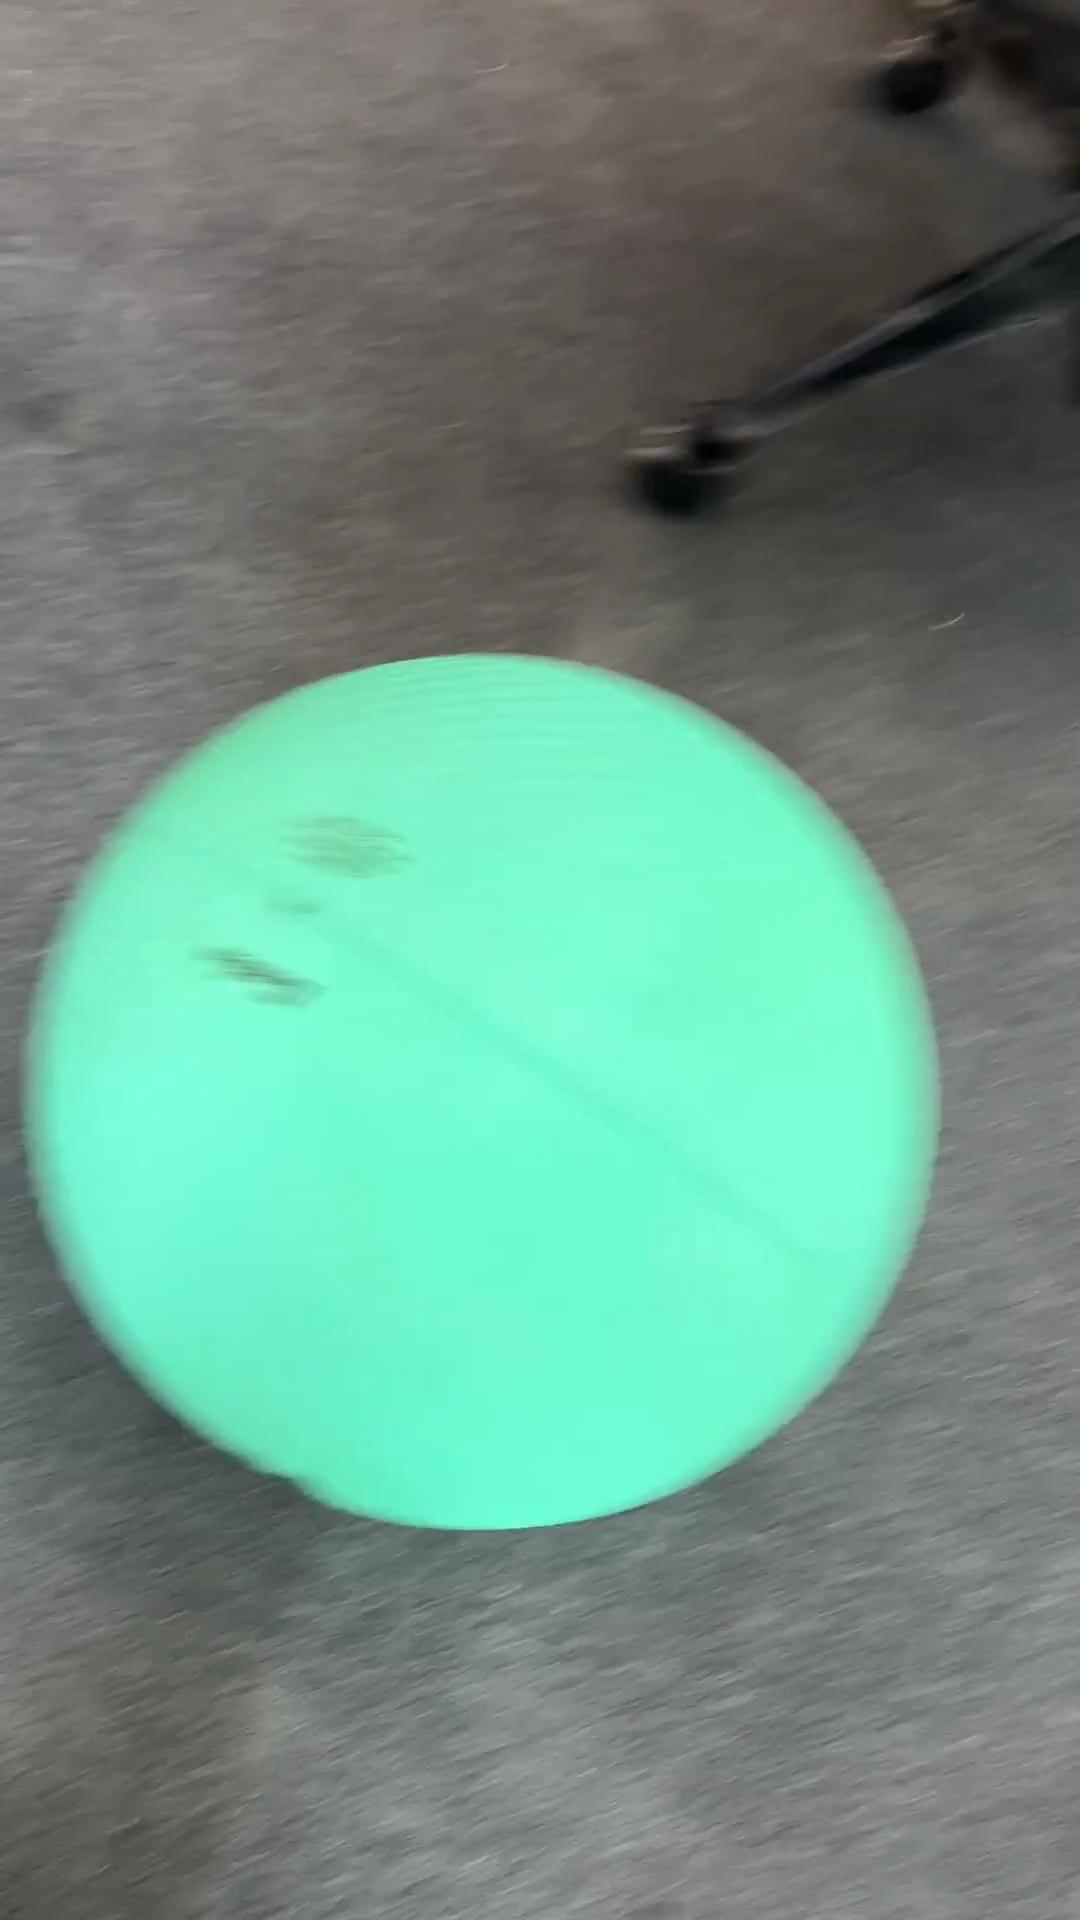ALGAE: (21, 647, 943, 1534)
